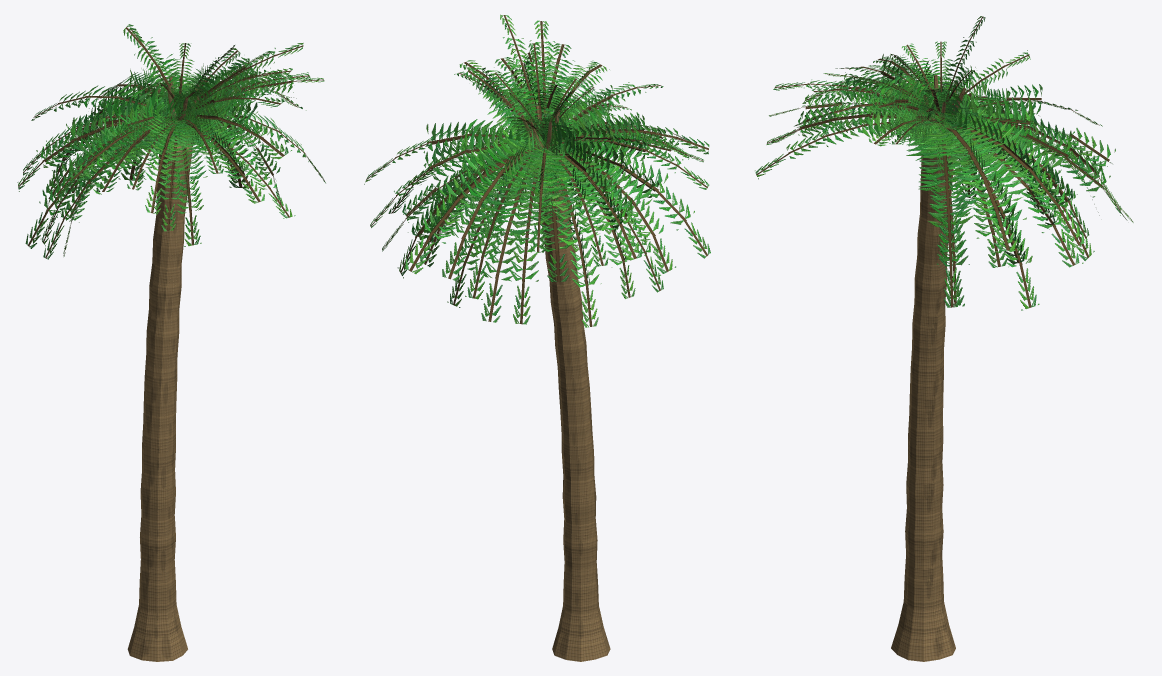
Rendered from PalmTree.glb.
3 renders of one model, left to right at view 1: azimuth 30°, elevation 25°; view 2: azimuth 150°, elevation 25°; view 3: azimuth 270°, elevation 25°, orthographic. The views are drawn at different scales.
Parts seen in each view (by area): view 1: tree_palm; view 2: tree_palm; view 3: tree_palm.
Part boxes in pixels (x1=…): tree_palm: x1=17, y1=24, x2=325, y2=661; tree_palm: x1=364, y1=14, x2=710, y2=661; tree_palm: x1=755, y1=16, x2=1133, y2=661.
Size of the model in its own units: 7.01 by 12.96 by 7.31.
Materials: 2 (2 with a texture image).
